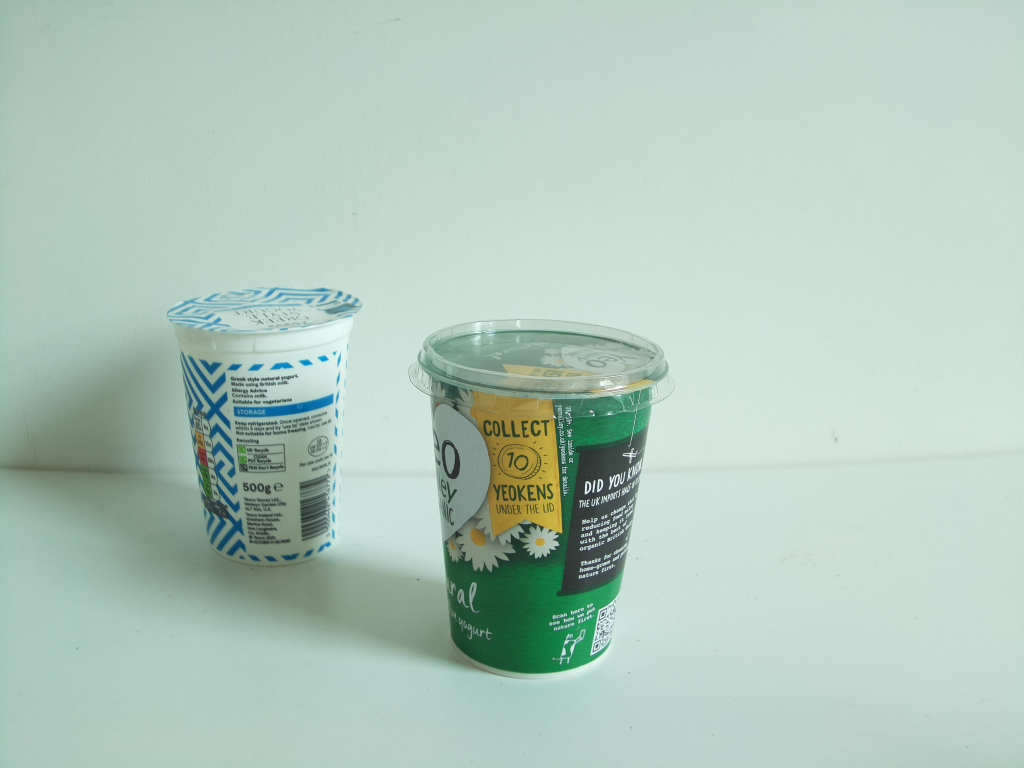yogurt: (403, 317, 680, 680), (168, 284, 373, 566)
